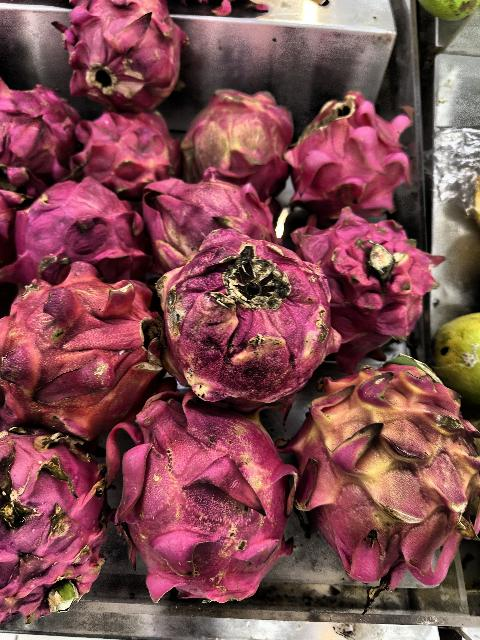buah-naga-belum-matang: (308, 358, 476, 574), (147, 226, 344, 398), (119, 393, 290, 591), (0, 271, 160, 414), (182, 76, 296, 182), (145, 176, 281, 252)
buah-naga-matang: (0, 417, 110, 619), (287, 212, 438, 338), (3, 180, 151, 280), (284, 97, 412, 209), (52, 0, 178, 102), (68, 101, 176, 189), (1, 74, 74, 184)
